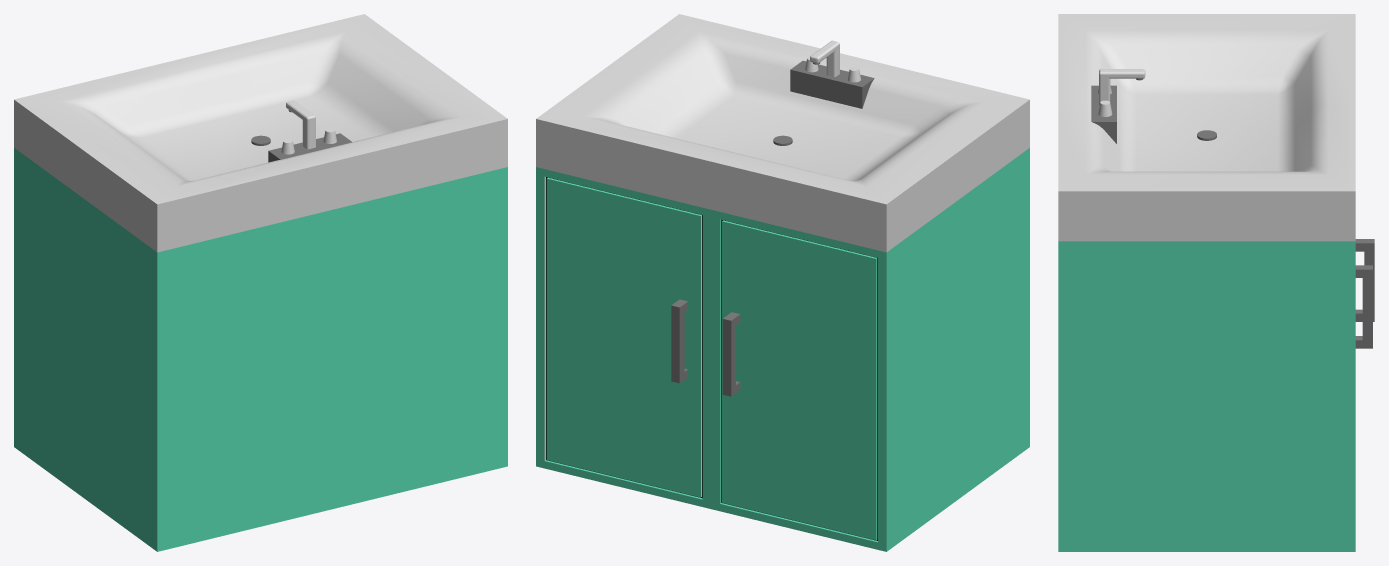
Rendered from bathroom_sink.fbx.
3 renders of one model, left to right at view 1: azimuth 30°, elevation 25°; view 2: azimuth 150°, elevation 25°; view 3: azimuth 270°, elevation 25°, orthographic. The views are drawn at different scales.
Visible parts, largest first — view 1: Cube.007; view 2: Cube.007; view 3: Cube.007.
Boxes of the visible parts, <box> form: Cube.007: <box>14,14,507,551</box>; Cube.007: <box>536,14,1029,551</box>; Cube.007: <box>1058,14,1374,551</box>.
Bounding box in the file's own units: 1381 × 1423 × 1040.
